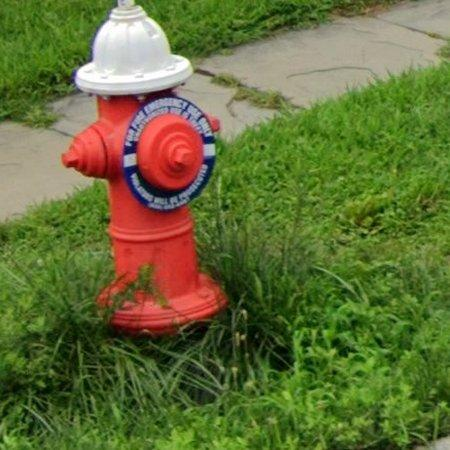a fire hydrant: (61, 0, 228, 336)
